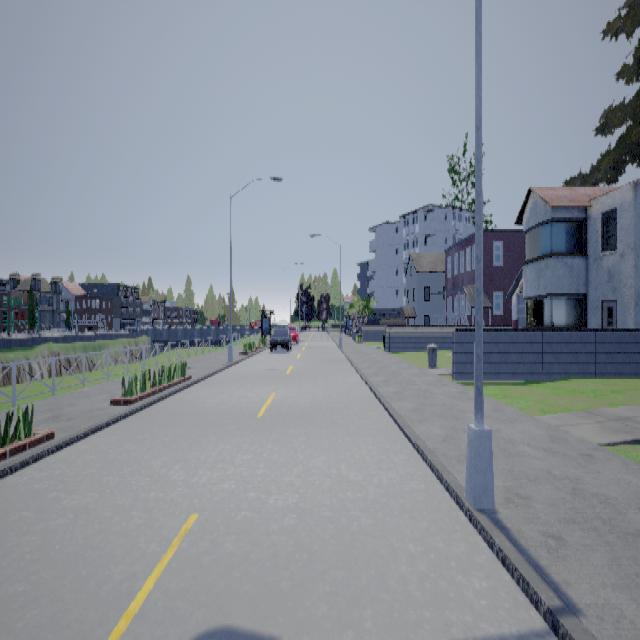vehicle: (269, 323, 290, 352), (281, 323, 300, 349)
